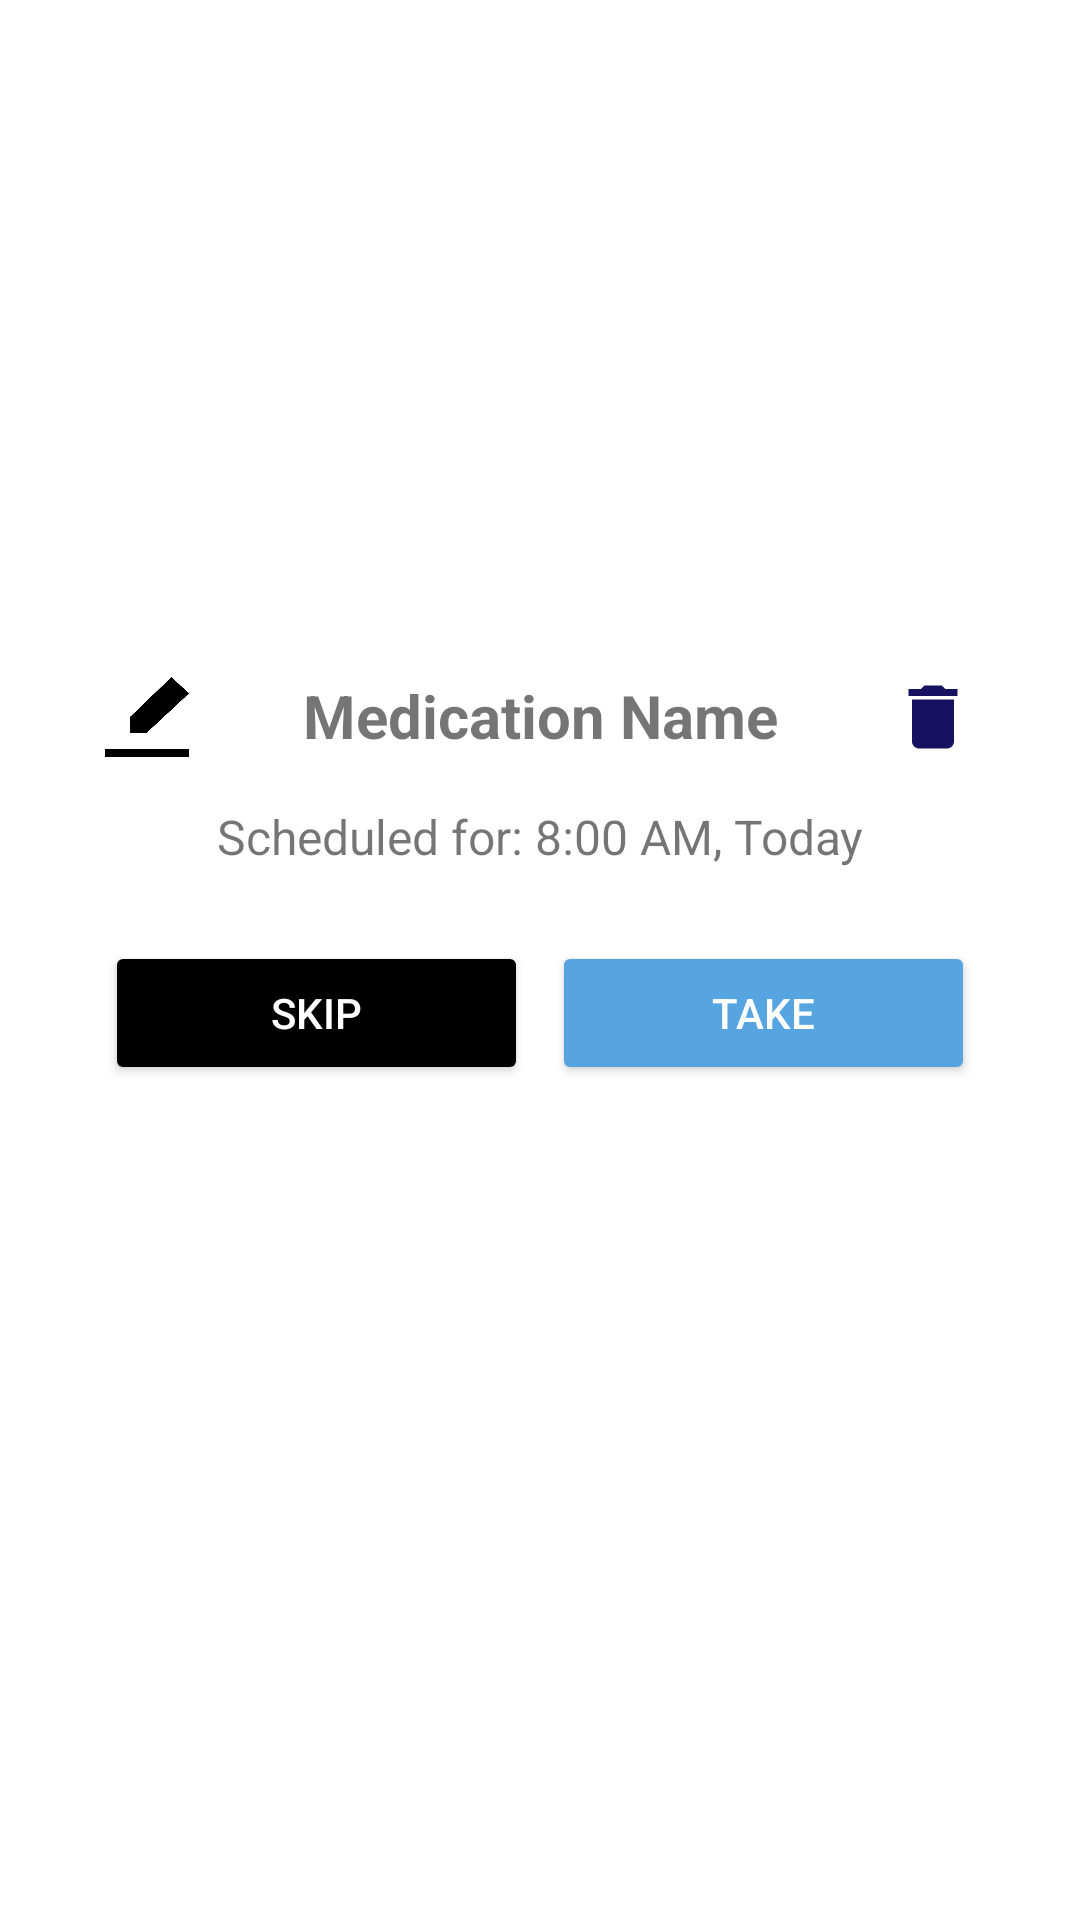

Named icons in this screenshot (1080 x 1920) and their centers, [x,y]:
delete: [933,717]
